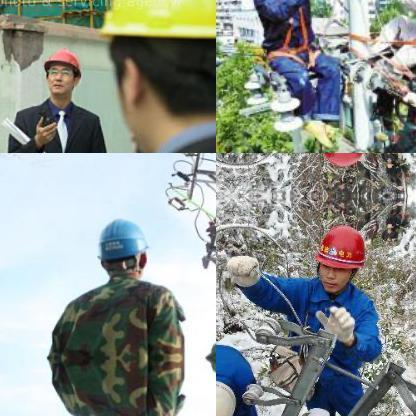Helmet: (83, 0, 215, 152), (310, 218, 372, 292), (92, 212, 154, 282), (37, 38, 85, 100), (310, 153, 374, 172), (216, 372, 240, 415)
